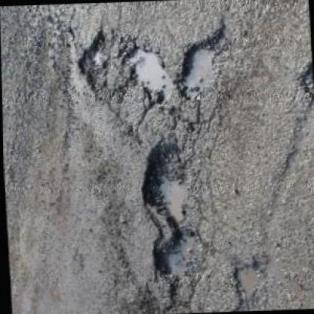Hueco: (135, 139, 196, 229), (173, 29, 231, 104), (120, 43, 171, 113), (146, 227, 208, 284), (73, 29, 113, 91), (227, 256, 266, 300), (297, 59, 313, 100)
